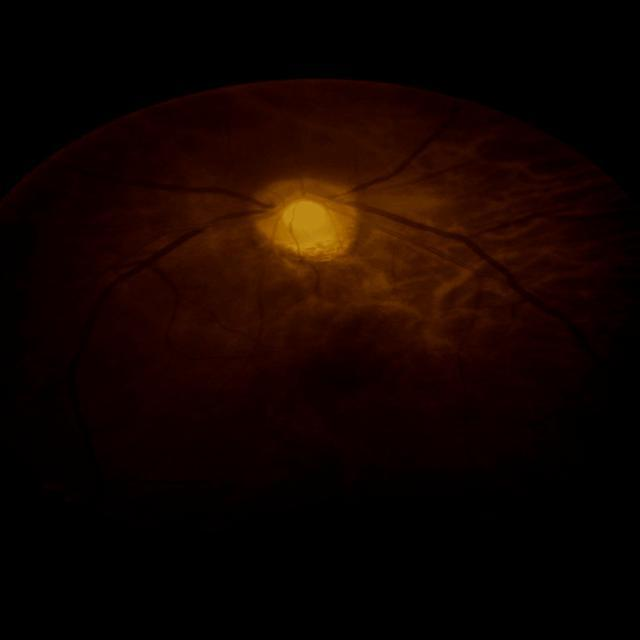cup: (272, 192, 348, 242)
disk: (249, 176, 358, 252)
